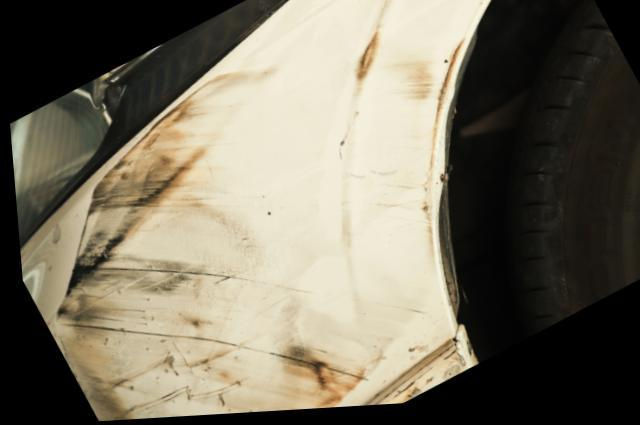scratch: (42, 0, 463, 422)
